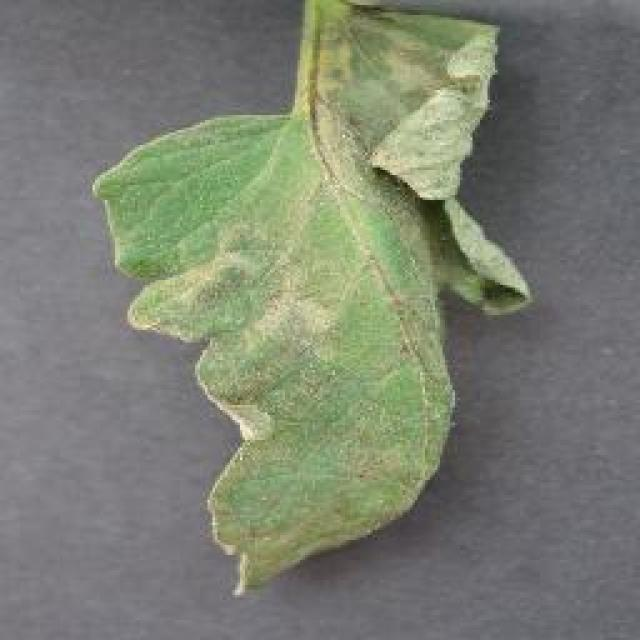Tomato Late Blight: (150, 17, 440, 538)
